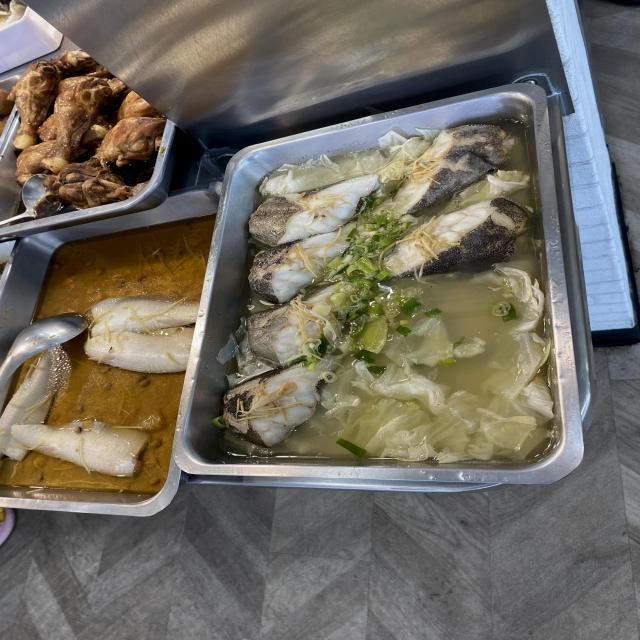Steamed fish: (257, 174, 480, 385)
